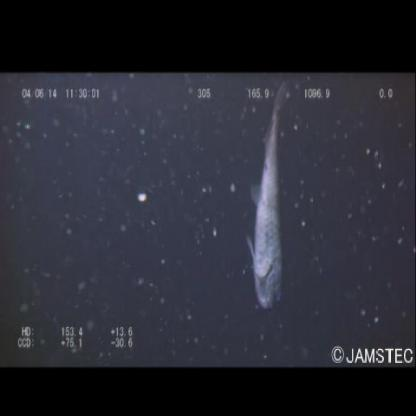Bio: (242, 75, 298, 313)
